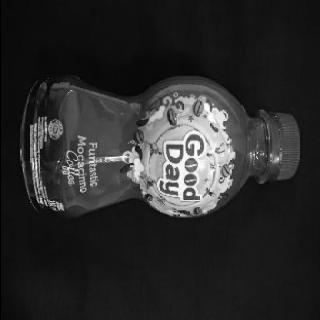plastic_bottles: (15, 70, 302, 222)
